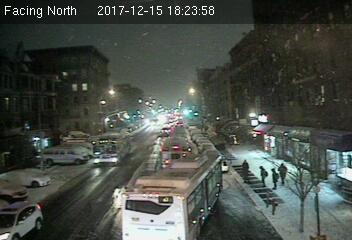bus: (120, 151, 227, 238), (91, 131, 130, 166)
car: (1, 200, 43, 240)
pedestrian: (280, 161, 289, 186), (259, 163, 267, 188), (271, 166, 278, 193)
